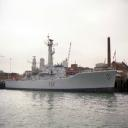Fragata: (5, 33, 119, 94)
